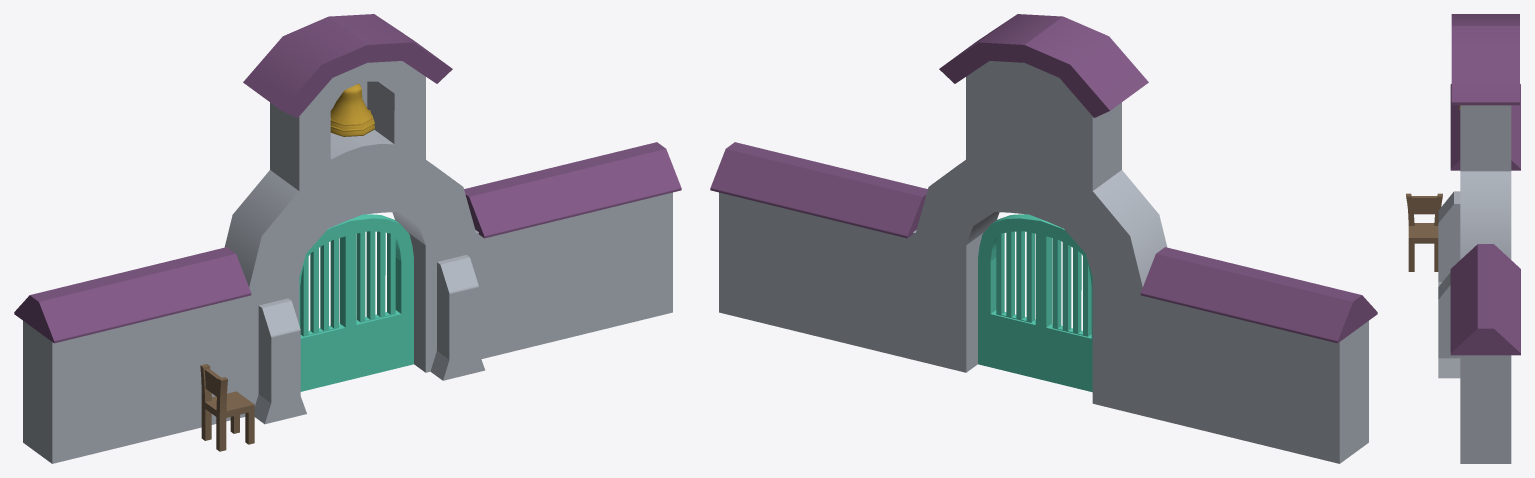
File: Gate_-_Wall_+_Chair.fbx
3 renders of one model, left to right at view 1: azimuth 30°, elevation 25°; view 2: azimuth 150°, elevation 25°; view 3: azimuth 270°, elevation 25°, orthographic. The views are drawn at different scales.
Parts seen in each view (by area): view 1: Wall, Door, Bars_01, Bars_02, Chair, Bell; view 2: Wall, Door, Bars_02, Bars_01; view 3: Wall, Chair.
Part boxes in pixels (x1=…): Wall: x1=14, y1=14, x2=681, y2=463; Door: x1=299, y1=214, x2=413, y2=391; Bars_01: x1=356, y1=231, x2=395, y2=322; Bars_02: x1=300, y1=238, x2=338, y2=336; Chair: x1=200, y1=364, x2=254, y2=451; Bell: x1=330, y1=83, x2=374, y2=136; Wall: x1=710, y1=14, x2=1377, y2=463; Door: x1=978, y1=214, x2=1092, y2=392; Bars_02: x1=1052, y1=238, x2=1091, y2=336; Bars_01: x1=996, y1=231, x2=1034, y2=322; Wall: x1=1438, y1=14, x2=1520, y2=463; Chair: x1=1406, y1=193, x2=1442, y2=271.
Bounding box in the file's own units: 1242 × 656 × 224.
